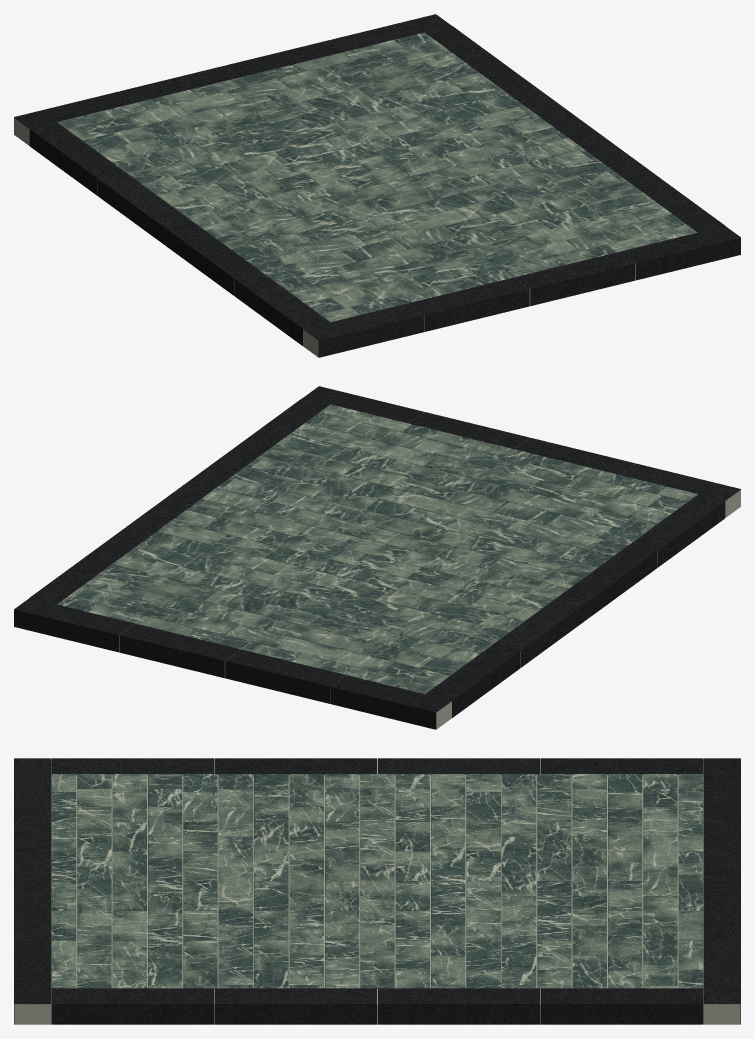
The model's file is floor-green-standard.glb.
The picture shows the model from 3 angles, top to bottom: view 1: azimuth 30°, elevation 25°; view 2: azimuth 150°, elevation 25°; view 3: azimuth 270°, elevation 25°; orthographic projection. The views are drawn at different scales.
Visible parts, largest first — view 1: Stone_field_green, Stone_edge_green, Joint_and_bedding_green; view 2: Stone_field_green, Stone_edge_green, Joint_and_bedding_green; view 3: Stone_field_green, Stone_edge_green, Joint_and_bedding_green.
Part boxes in pixels (x1,y1,x2,y2): Stone_field_green: [57, 32, 697, 322]; Stone_edge_green: [14, 14, 740, 357]; Joint_and_bedding_green: [14, 40, 681, 357]; Stone_field_green: [57, 404, 697, 694]; Stone_edge_green: [14, 386, 740, 729]; Joint_and_bedding_green: [73, 412, 740, 729]; Stone_field_green: [51, 774, 703, 988]; Stone_edge_green: [14, 758, 740, 1024]; Joint_and_bedding_green: [14, 759, 740, 1024].
Bounding box in the file's own units: 2.4 × 0.096 × 3.
3 materials, 2 textured.
